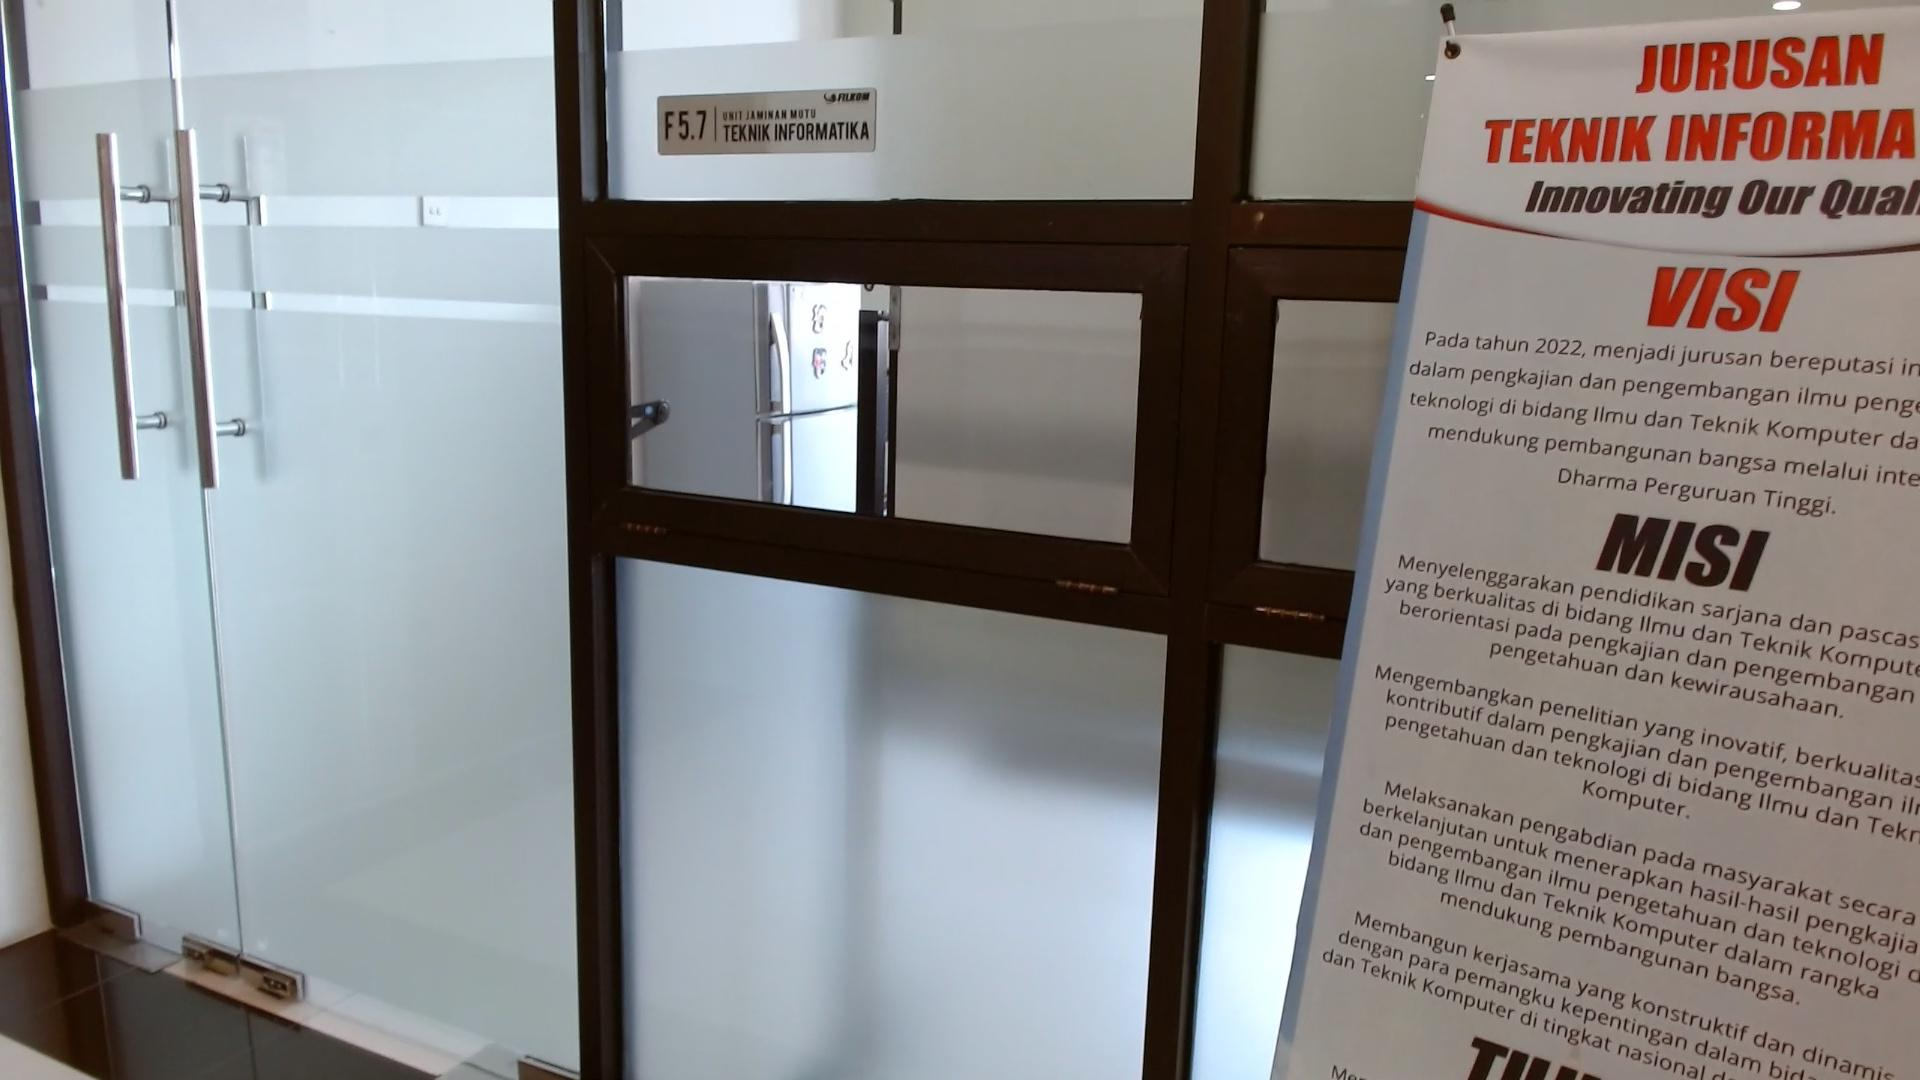plate: (657, 87, 877, 156)
